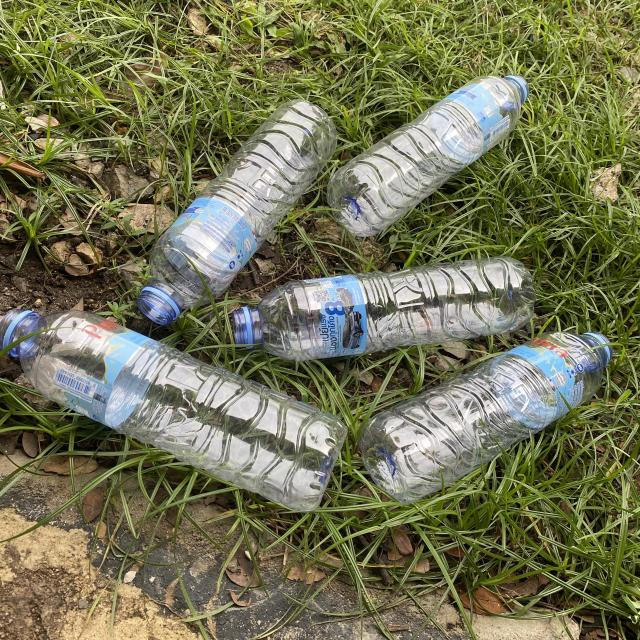plastik: (0, 310, 346, 511), (138, 99, 336, 325), (359, 332, 612, 504), (328, 76, 529, 236), (232, 258, 535, 361)
